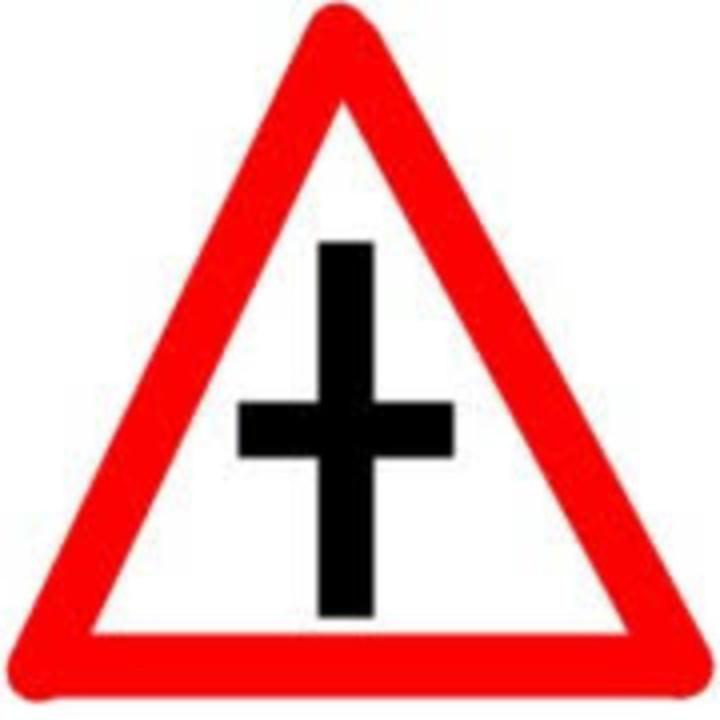fork_road: (7, 0, 719, 709)
